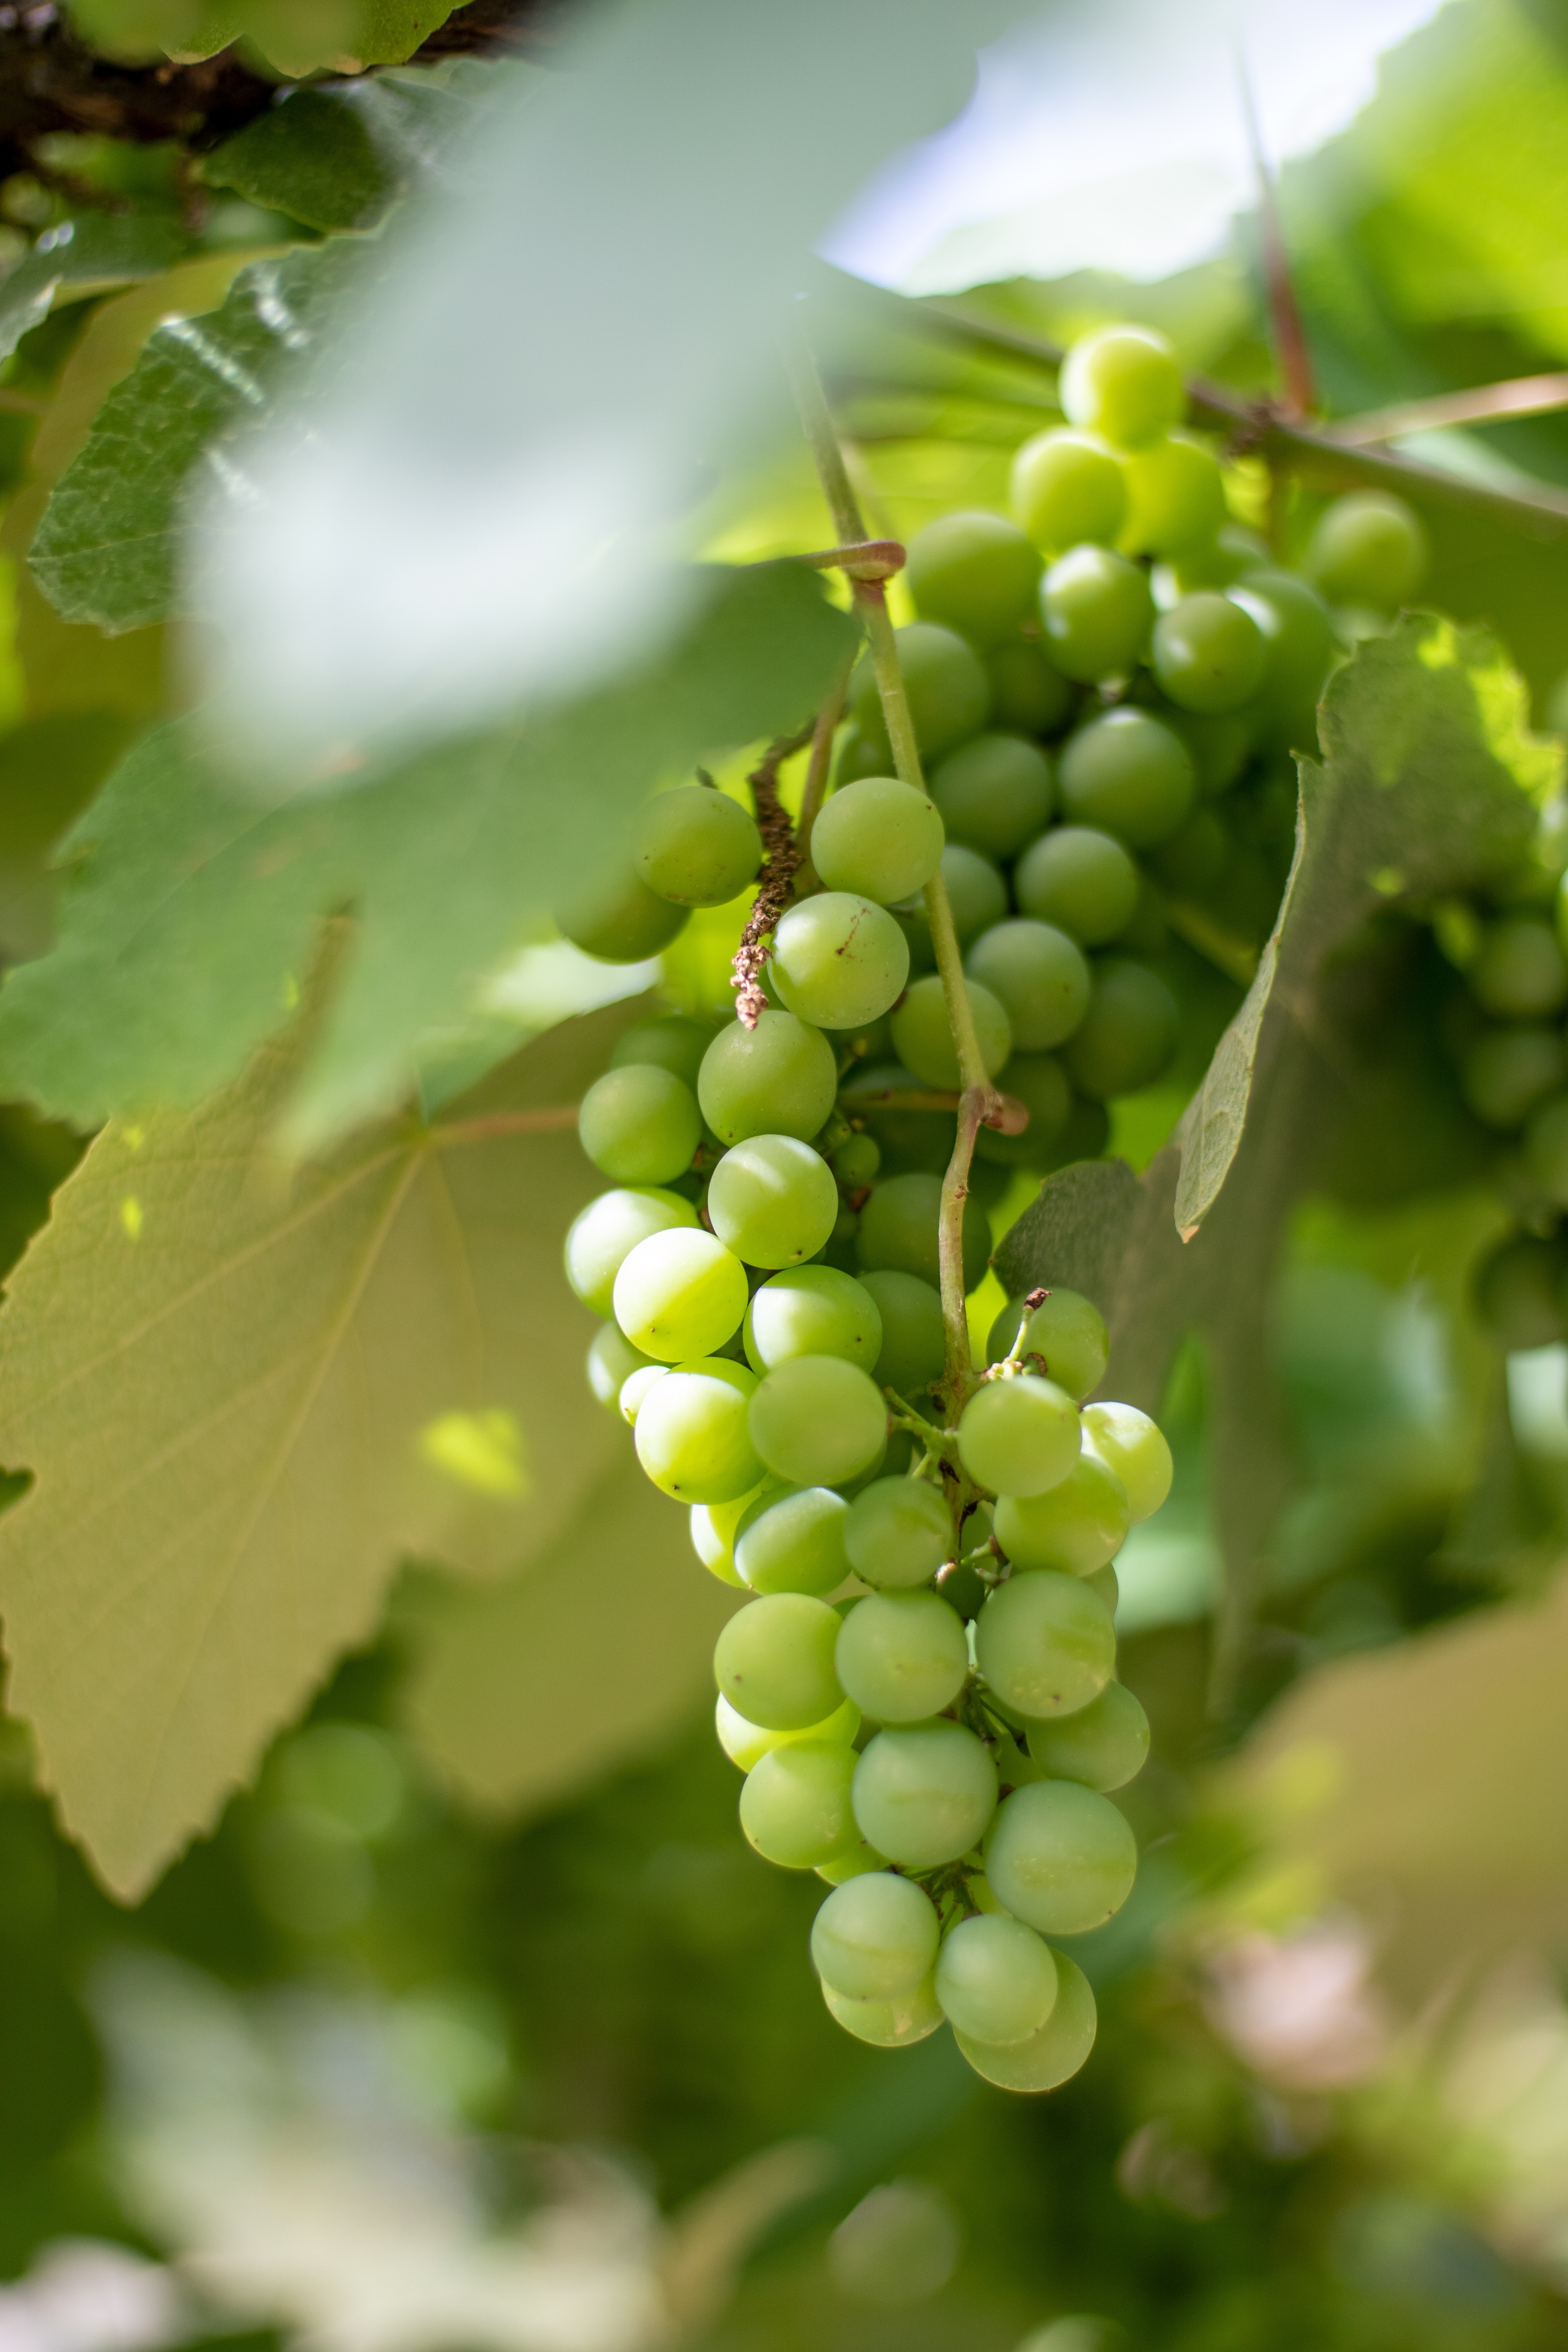Healthy: (982, 1566, 1125, 1719), (990, 1780, 1130, 1934), (963, 1946, 1108, 2086), (690, 1020, 851, 1143), (630, 1363, 763, 1507), (710, 1596, 852, 1724), (847, 1586, 982, 1719), (710, 1139, 842, 1276), (737, 1731, 866, 1867), (868, 1726, 998, 1862), (768, 906, 914, 1027), (612, 1227, 749, 1353), (805, 1871, 940, 1993), (747, 1360, 884, 1480), (994, 1274, 1123, 1395), (635, 795, 766, 910), (990, 1465, 1141, 1565), (574, 1067, 700, 1186), (732, 1479, 856, 1598), (814, 784, 941, 900), (831, 1930, 957, 2046), (961, 1382, 1074, 1500), (947, 1920, 1059, 2033), (859, 1172, 978, 1277), (845, 1477, 955, 1584), (1067, 1400, 1185, 1500), (1029, 1689, 1150, 1783), (758, 1274, 877, 1365)
